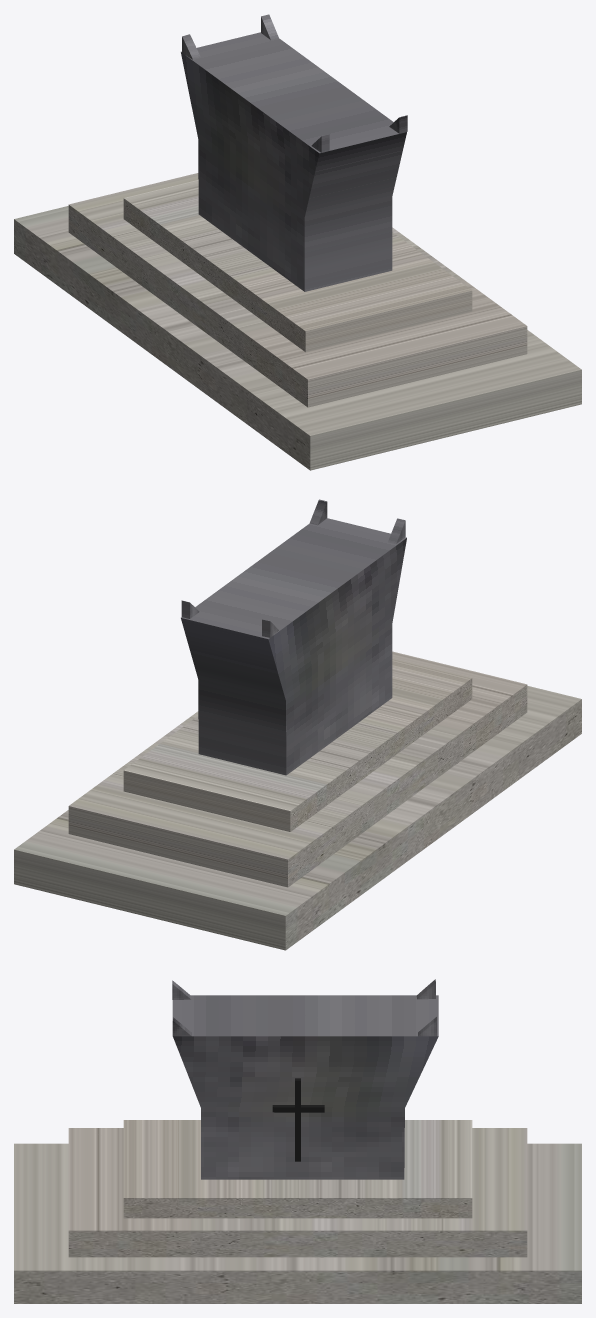
The model's file is gravestone_Large.fbx.
3 views of the same model, one above another, from view 1: azimuth 30°, elevation 25°; view 2: azimuth 150°, elevation 25°; view 3: azimuth 270°, elevation 25° (orthographic). The views are drawn at different scales.
Parts seen in each view (by area): view 1: pCube4, pCube1, pCube2, pCube3; view 2: pCube4, pCube1, pCube2, pCube3; view 3: pCube4, pCube1, pCube2, pCube3, pCube9.
Boxes of the visible parts, x1,y1,x2,y2 form: pCube4: [181, 32, 406, 291]; pCube1: [14, 206, 581, 470]; pCube2: [68, 173, 527, 407]; pCube3: [123, 179, 472, 352]; pCube4: [181, 518, 406, 775]; pCube1: [14, 685, 581, 950]; pCube2: [68, 651, 527, 887]; pCube3: [123, 658, 472, 831]; pCube4: [172, 995, 438, 1179]; pCube1: [14, 1143, 581, 1303]; pCube2: [68, 1128, 527, 1257]; pCube3: [123, 1120, 472, 1218]; pCube9: [295, 1078, 300, 1161].
Bounding box in the file's own units: 5.39 × 4.76 × 10.19.
3 materials, 2 textured.
